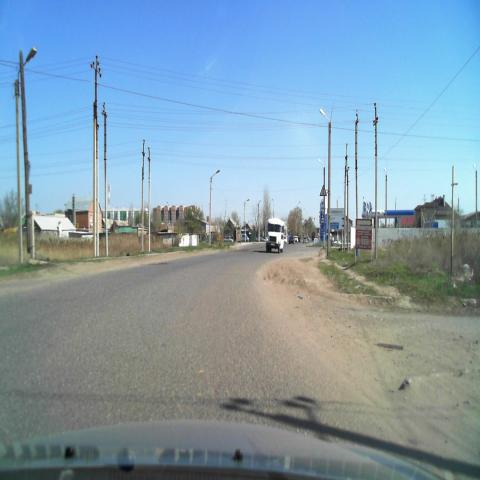1_8: (319, 184, 327, 198)
